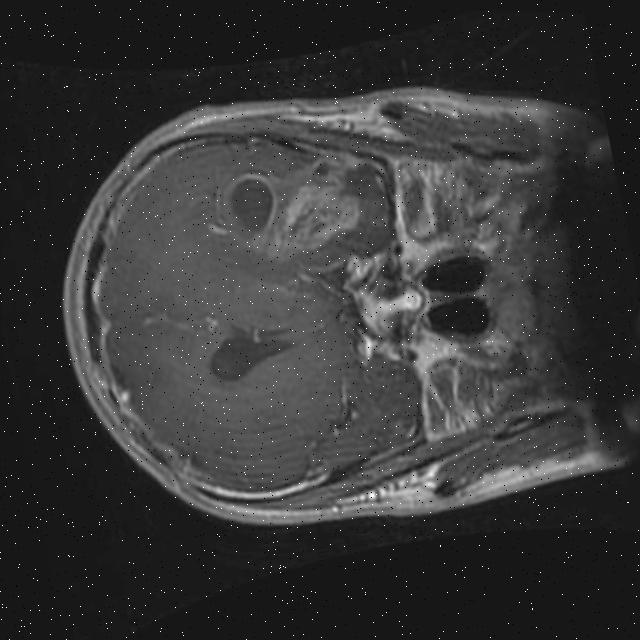Glioma: (214, 148, 372, 273)
Pituitary: (351, 276, 427, 340)
